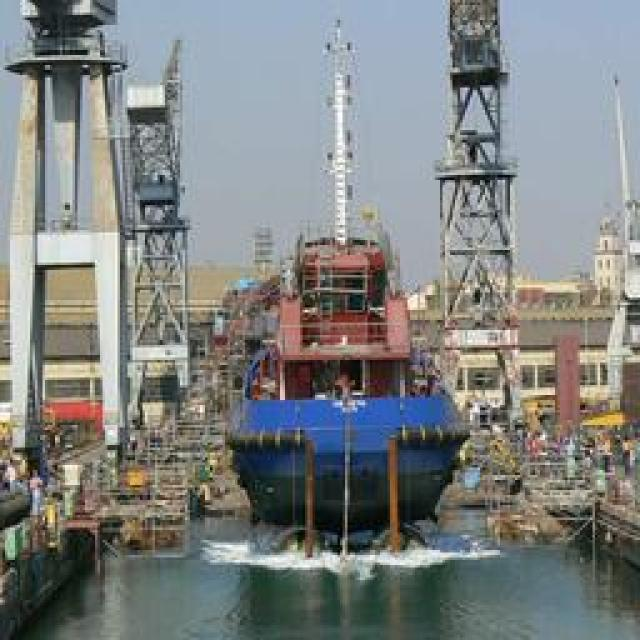CIV_Ship: (222, 224, 466, 526)
